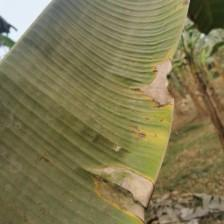pestalotiopsis: (0, 0, 192, 224)
